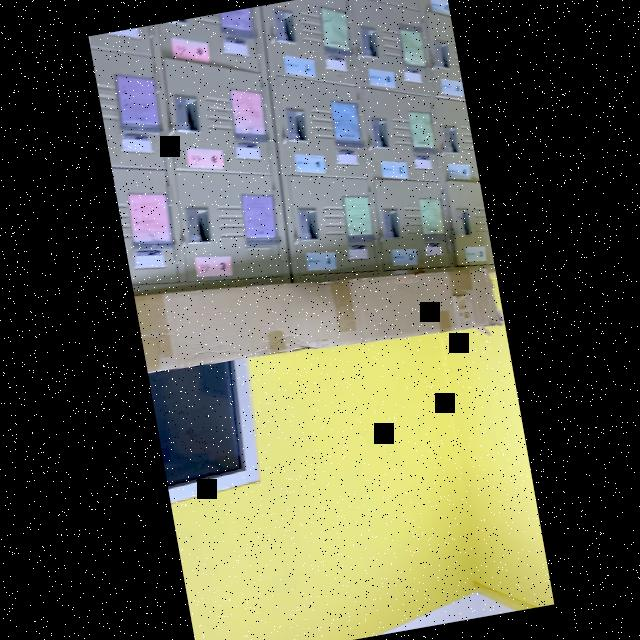cardboard_box: (132, 230, 501, 393)
